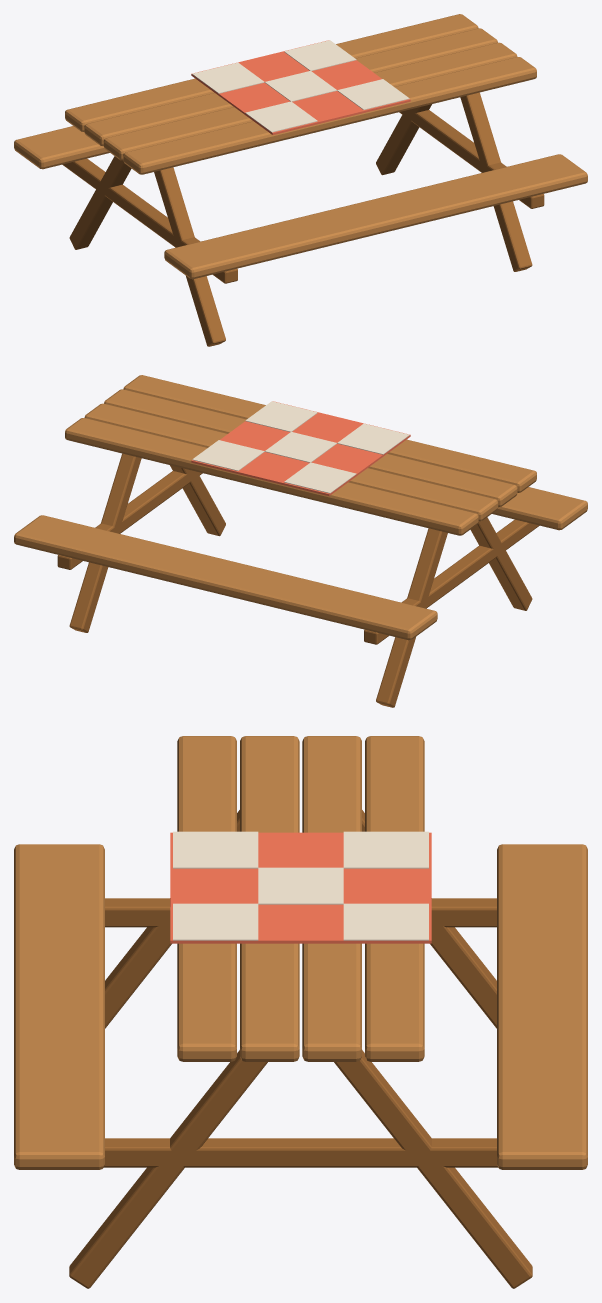
File: picnic_table.glb
The picture shows the model from 3 angles, top to bottom: view 1: azimuth 30°, elevation 25°; view 2: azimuth 150°, elevation 25°; view 3: azimuth 270°, elevation 25°; orthographic projection. The views are drawn at different scales.
Visible parts, largest first — view 1: seat-1, plank0, runner, plank1, plank2, plank3, legA-1-1, legA-11, brace-1, seat1, brace1, legA1-1 (+6 smaller); view 2: seat1, plank3, runner, plank2, plank1, plank0, legA11, legA1-1, brace-1, seat-1, brace1, legA-1-1 (+6 smaller); view 3: seat-1, seat1, runner, plank1, plank2, plank0, plank3, brace1, legA11, legA-11, brace-1, check11 (+6 smaller).
Part boxes in pixels (x1=…): seat-1: x1=164, y1=154, x2=587, y2=279; plank0: x1=123, y1=57, x2=536, y2=174; runner: x1=191, y1=40, x2=410, y2=134; plank1: x1=103, y1=42, x2=517, y2=160; plank2: x1=84, y1=28, x2=497, y2=146; plank3: x1=65, y1=14, x2=478, y2=131; legA-1-1: x1=154, y1=167, x2=225, y2=346; legA-11: x1=460, y1=92, x2=532, y2=271; brace-1: x1=62, y1=158, x2=237, y2=283; seat1: x1=14, y1=126, x2=109, y2=169; brace1: x1=399, y1=110, x2=544, y2=208; legA1-1: x1=69, y1=156, x2=131, y2=249; seat1: x1=14, y1=515, x2=437, y2=640; plank3: x1=65, y1=418, x2=478, y2=535; runner: x1=191, y1=401, x2=410, y2=495; plank2: x1=84, y1=403, x2=498, y2=521; plank1: x1=104, y1=389, x2=517, y2=507; plank0: x1=123, y1=375, x2=536, y2=492; legA11: x1=69, y1=453, x2=141, y2=632; legA1-1: x1=376, y1=528, x2=447, y2=707; brace-1: x1=364, y1=519, x2=539, y2=644; seat-1: x1=492, y1=487, x2=587, y2=530; brace1: x1=57, y1=470, x2=202, y2=569; legA-1-1: x1=470, y1=517, x2=532, y2=610; seat-1: x1=14, y1=844, x2=104, y2=1169; seat1: x1=497, y1=844, x2=587, y2=1169; runner: x1=170, y1=832, x2=431, y2=943; plank1: x1=240, y1=736, x2=299, y2=1061; plank2: x1=302, y1=736, x2=361, y2=1061; plank0: x1=177, y1=736, x2=236, y2=1061; plank3: x1=365, y1=736, x2=424, y2=1061; brace1: x1=103, y1=1138, x2=498, y2=1167; legA11: x1=334, y1=1050, x2=532, y2=1288; legA-11: x1=69, y1=1050, x2=267, y2=1288; brace-1: x1=105, y1=898, x2=496, y2=927; check11: x1=258, y1=867, x2=343, y2=904.
Size of the model in its own units: 2.6 by 1.08 by 2.02.
